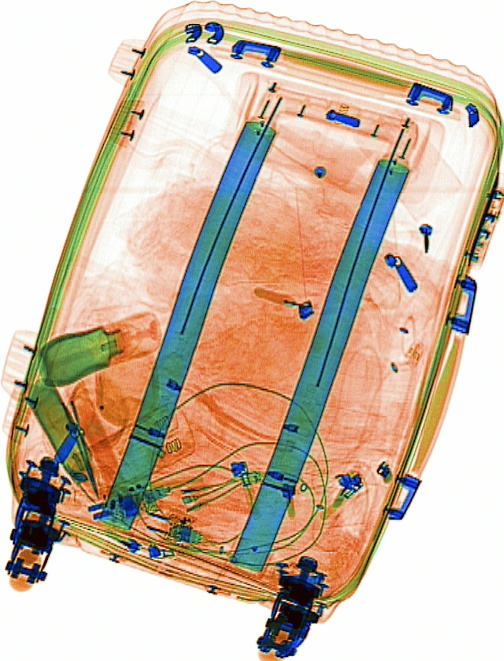scissors: (45, 393, 100, 499)
